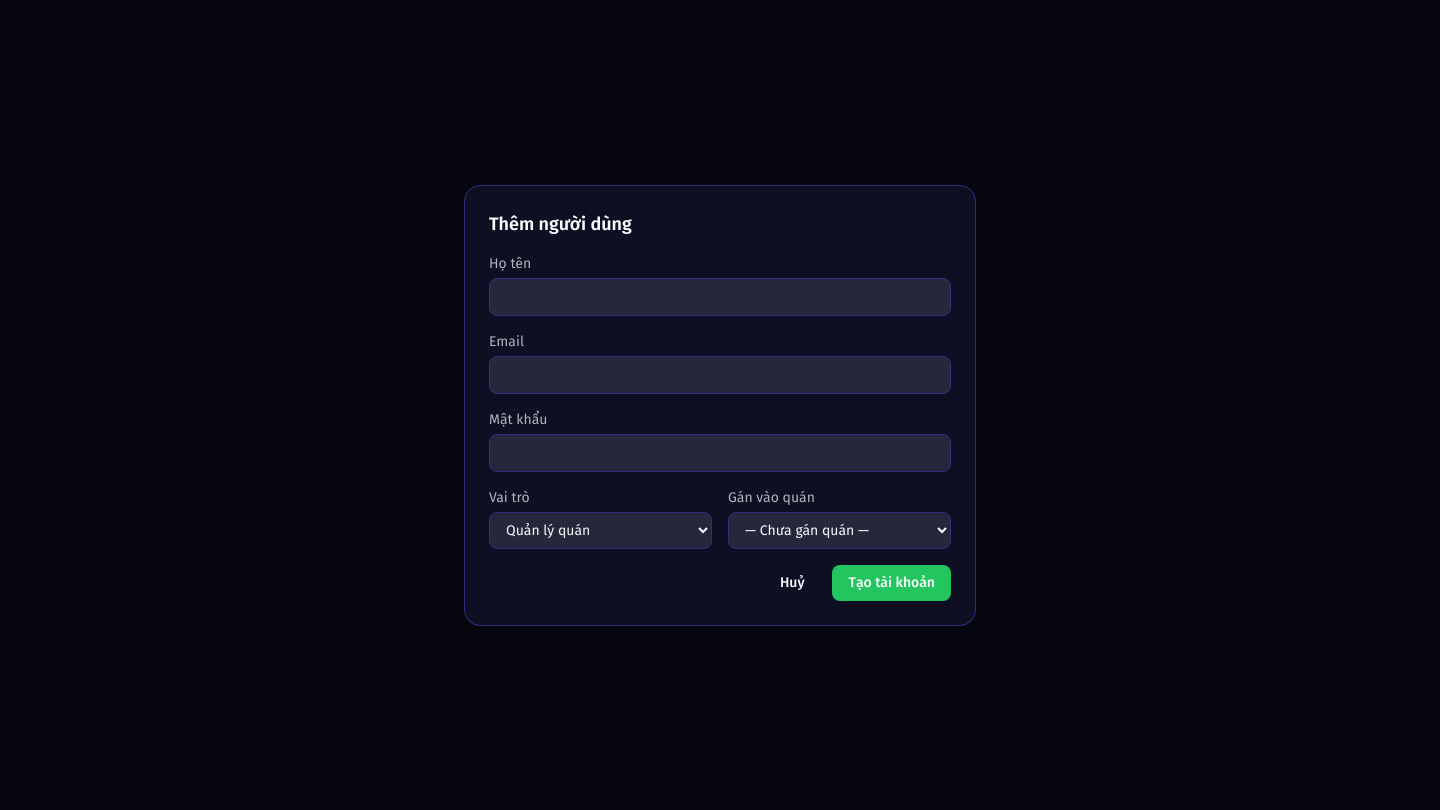
Test case: CreateUserDialog › shows an error and does not close when creation fails
The image size is (1440, 810).
Type "Nhân viên mới" into the field labelled "Họ tên". click: point(720, 296)
box: [489,278,951,316]
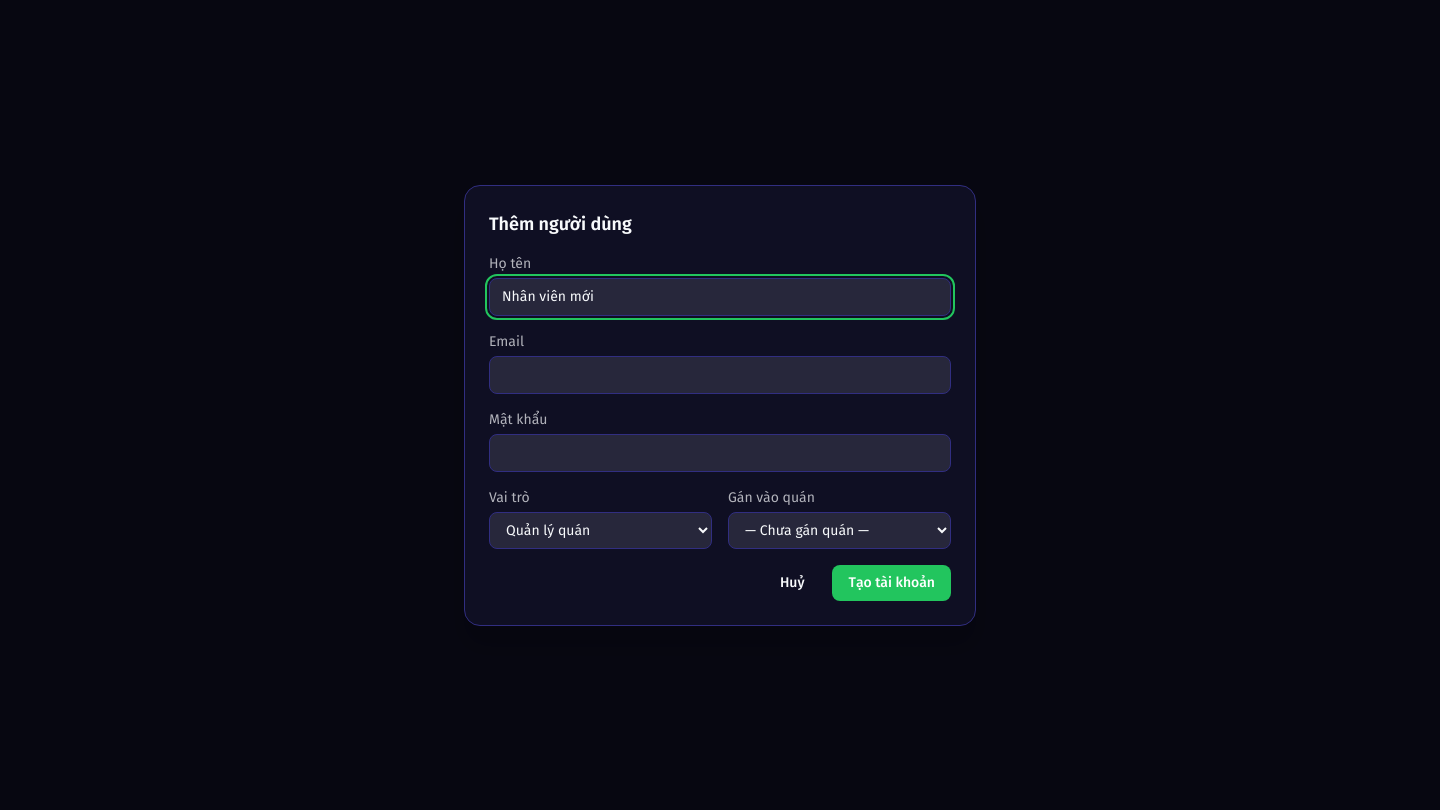
Type "new@cafe.com" into the field labelled "Email". click: point(720, 374)
box: [489,356,951,394]
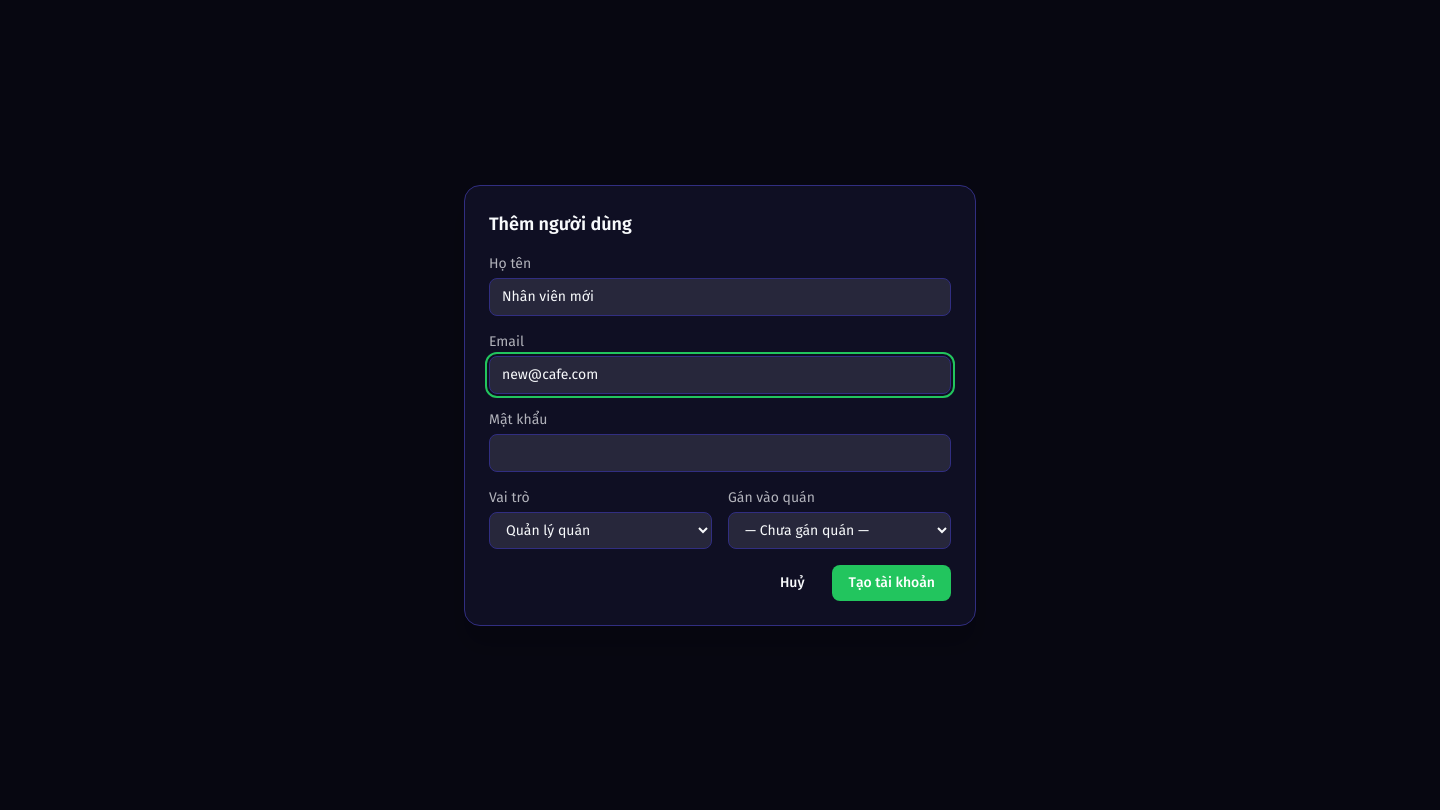
Type "mat-khau-12" into the password field labelled "Mật khẩu". click: point(720, 452)
box: [489,434,951,472]
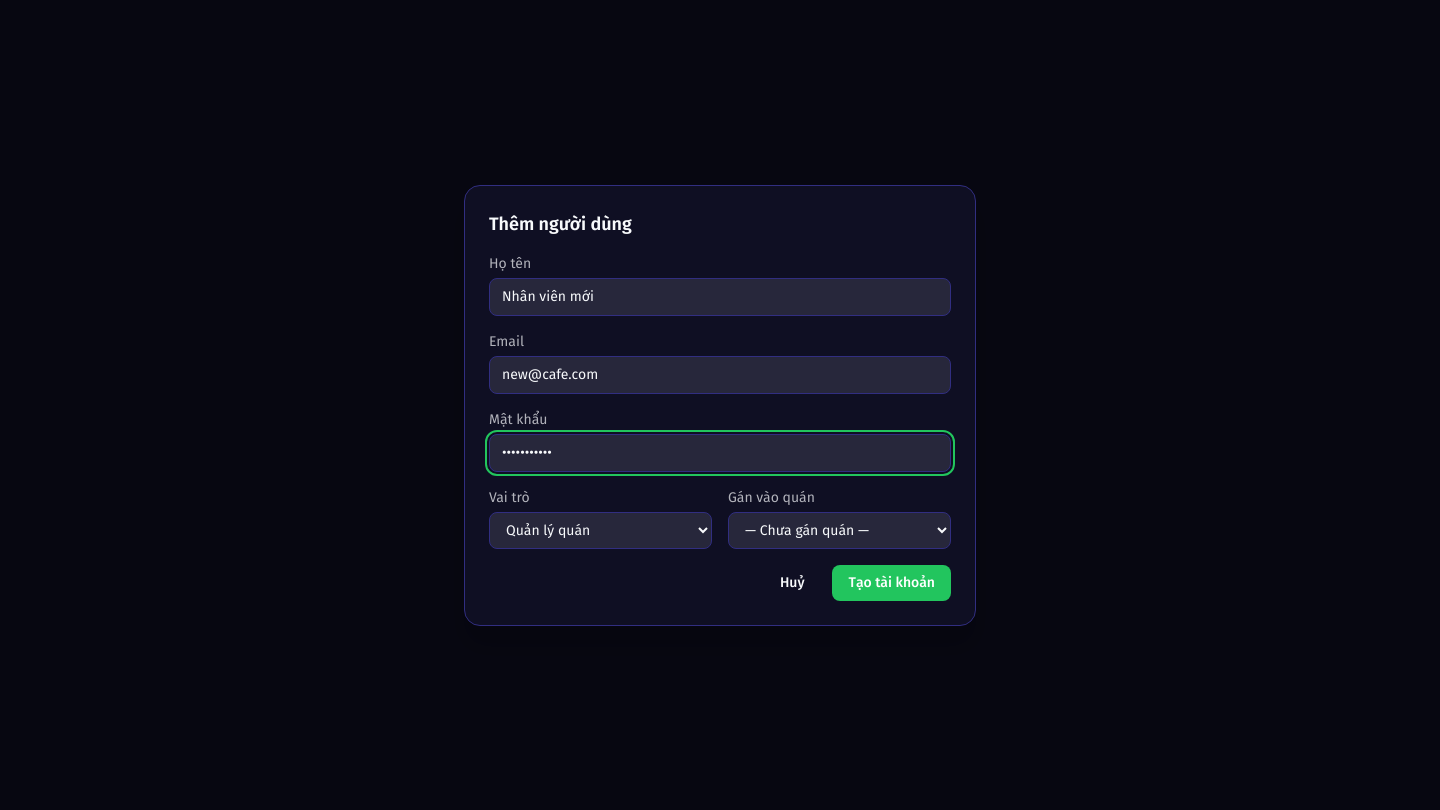
Click the button "Tạo tài khoản". click: point(892, 582)
box: [832,564,951,600]
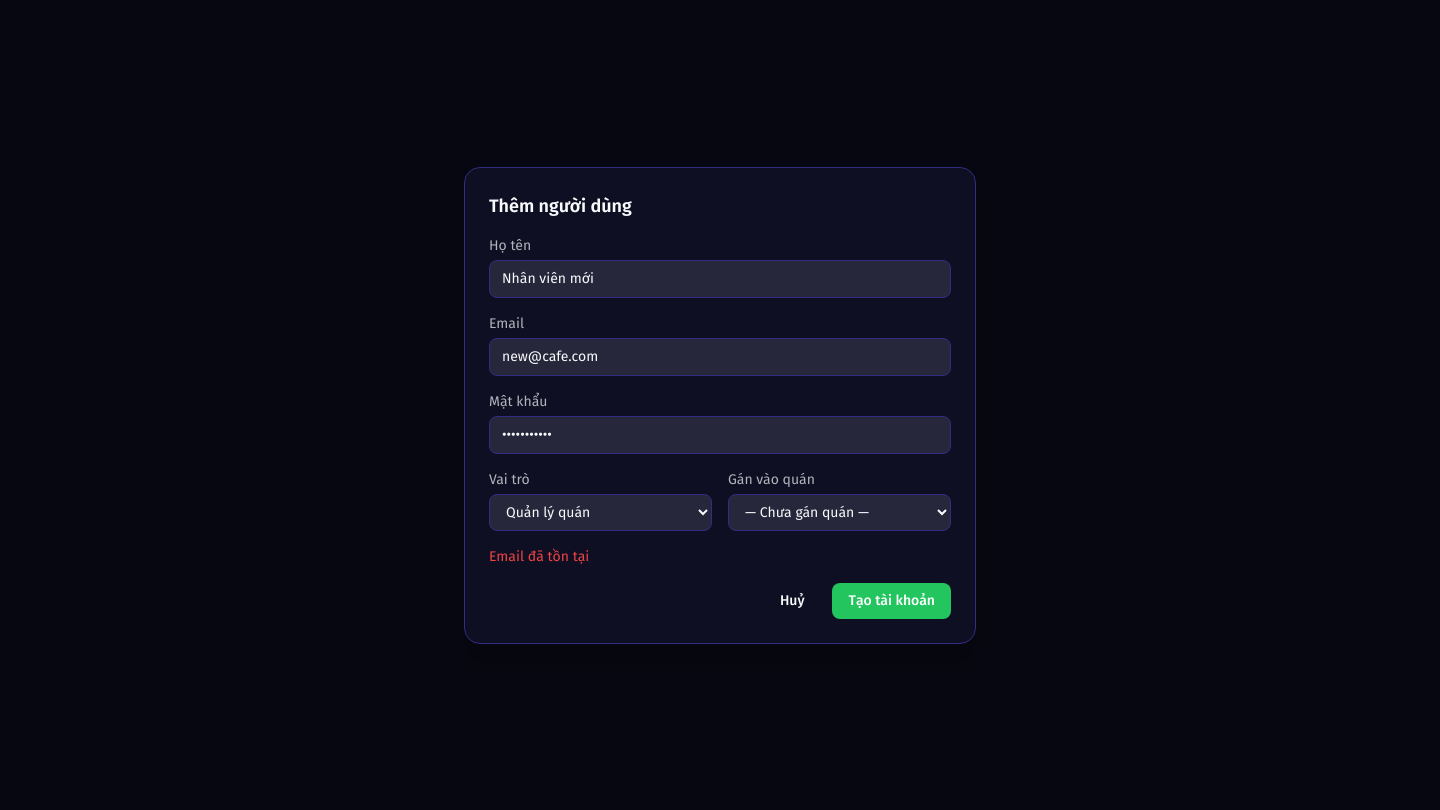
expect the message reads "Email đã tồn tại": met, box [489,548,589,564]
